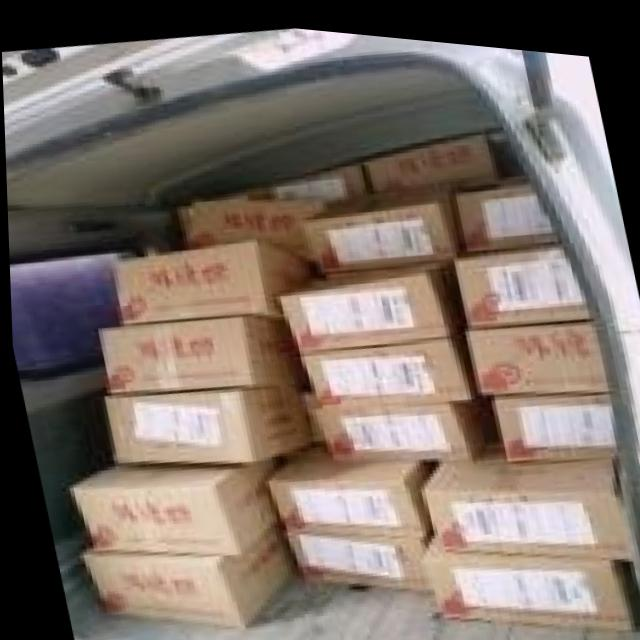box: (414, 431, 625, 548), (65, 451, 278, 552), (75, 525, 291, 623), (422, 527, 631, 618), (95, 310, 307, 391), (101, 380, 311, 461), (112, 236, 310, 321), (274, 259, 462, 348), (294, 172, 466, 268), (261, 437, 431, 531), (298, 322, 472, 399), (452, 235, 587, 319), (462, 309, 606, 386), (312, 389, 481, 454), (279, 524, 427, 586), (487, 381, 611, 451), (189, 191, 323, 254), (363, 121, 498, 183), (454, 173, 557, 242), (267, 155, 366, 199)
